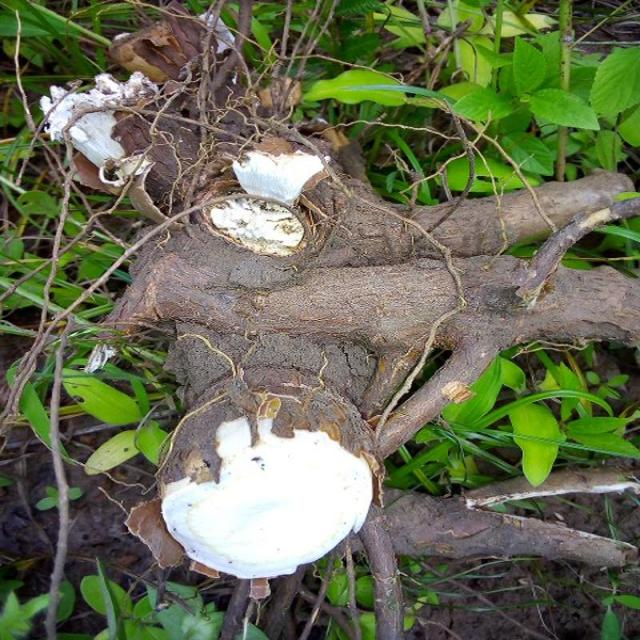cassava leaf: (156, 386, 374, 581)
